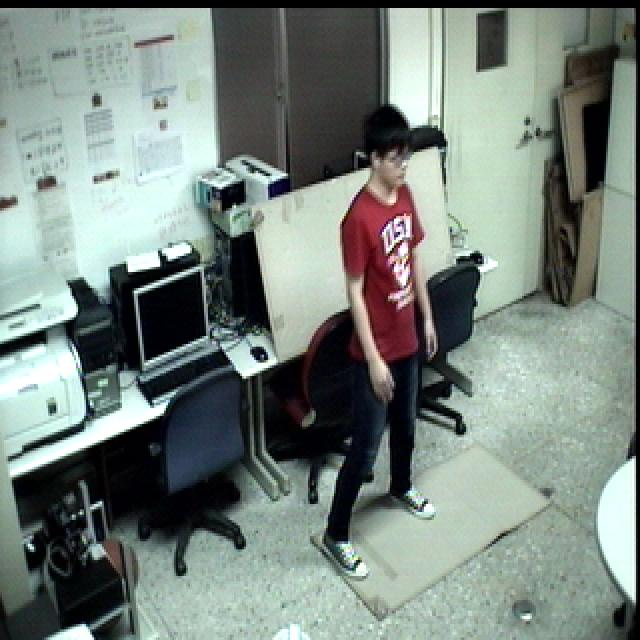stand: (306, 91, 445, 594)
